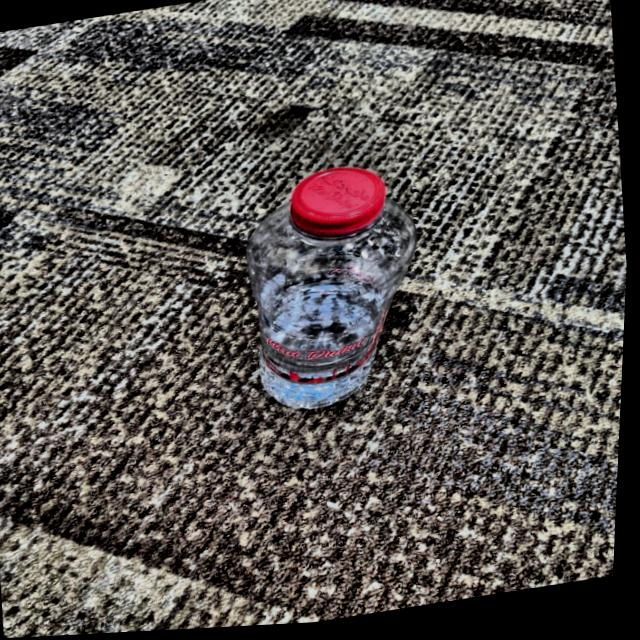Bottles: (178, 127, 457, 448)
